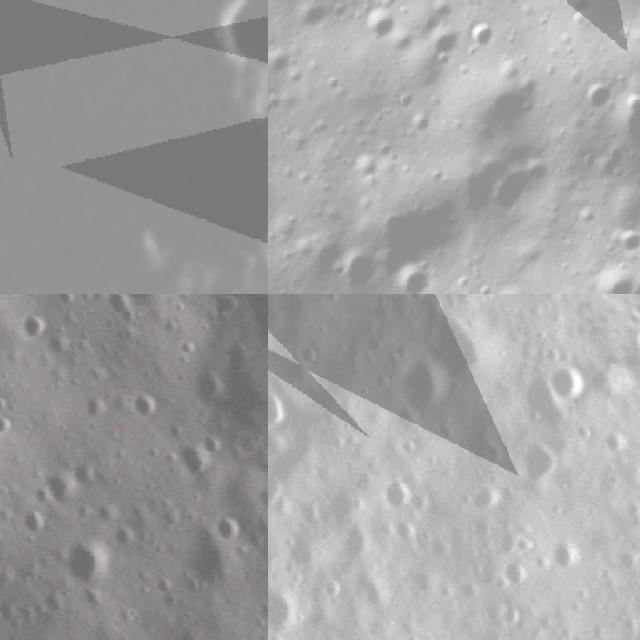crater: (410, 294, 513, 400), (480, 137, 563, 230), (383, 339, 464, 428), (197, 0, 268, 94), (500, 425, 574, 500), (50, 529, 124, 603), (536, 344, 608, 414), (268, 558, 327, 640), (198, 497, 257, 557), (539, 526, 598, 584), (366, 463, 421, 518), (329, 240, 384, 294), (606, 84, 640, 161), (457, 476, 509, 526), (268, 374, 302, 450), (487, 550, 538, 600), (124, 378, 174, 428), (268, 453, 305, 519), (170, 433, 219, 482), (355, 1, 403, 49), (572, 72, 618, 121), (421, 19, 466, 66), (593, 418, 639, 463), (386, 255, 437, 294), (12, 501, 56, 544), (13, 302, 56, 344), (460, 14, 501, 54), (290, 0, 333, 37), (268, 37, 299, 82), (347, 145, 383, 182), (172, 330, 206, 364), (287, 231, 320, 265), (405, 104, 436, 140), (99, 294, 140, 321), (485, 275, 541, 294), (610, 226, 640, 260), (627, 562, 640, 635), (167, 294, 193, 319), (0, 408, 20, 440)
